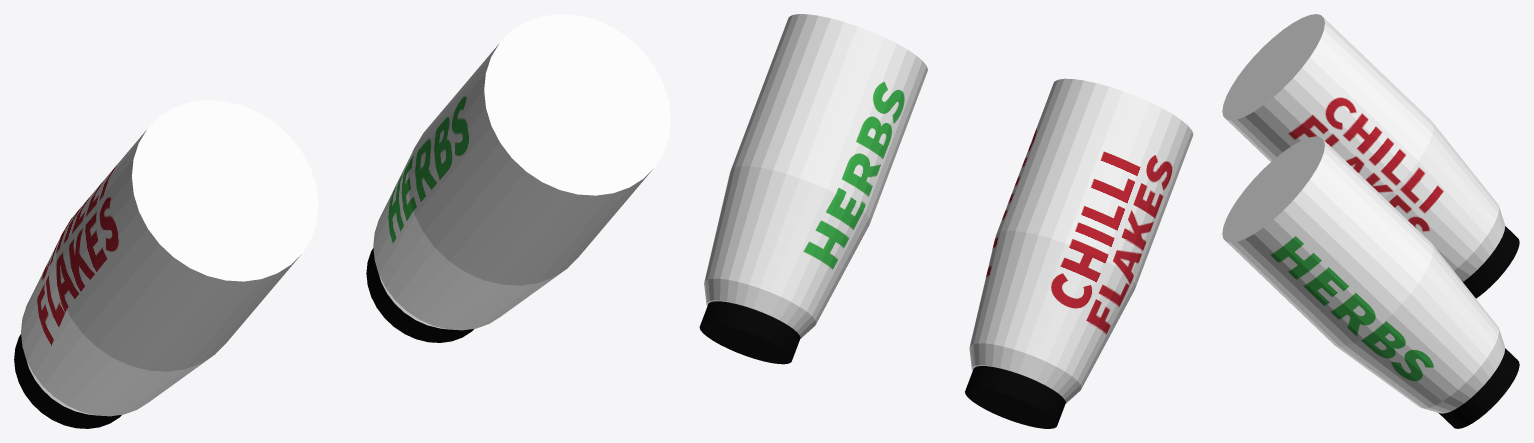
File: bottle.fbx
The picture shows the model from 3 angles, left to right: view 1: azimuth 30°, elevation 25°; view 2: azimuth 150°, elevation 25°; view 3: azimuth 270°, elevation 25°; orthographic projection. The views are drawn at different scales.
Parts seen in each view (by area): view 1: Cylinder.010, Cylinder.009; view 2: Cylinder.010, Cylinder.009; view 3: Cylinder.010, Cylinder.009.
Boxes of the visible parts, <box> form: Cylinder.010: <box>366,14,670,342</box>; Cylinder.009: <box>14,100,318,428</box>; Cylinder.010: <box>699,14,927,364</box>; Cylinder.009: <box>965,78,1193,428</box>; Cylinder.010: <box>1222,136,1519,428</box>; Cylinder.009: <box>1222,14,1519,298</box>.
Size of the model in its own units: 623 by 443 by 430.
2 materials, 2 textured.
